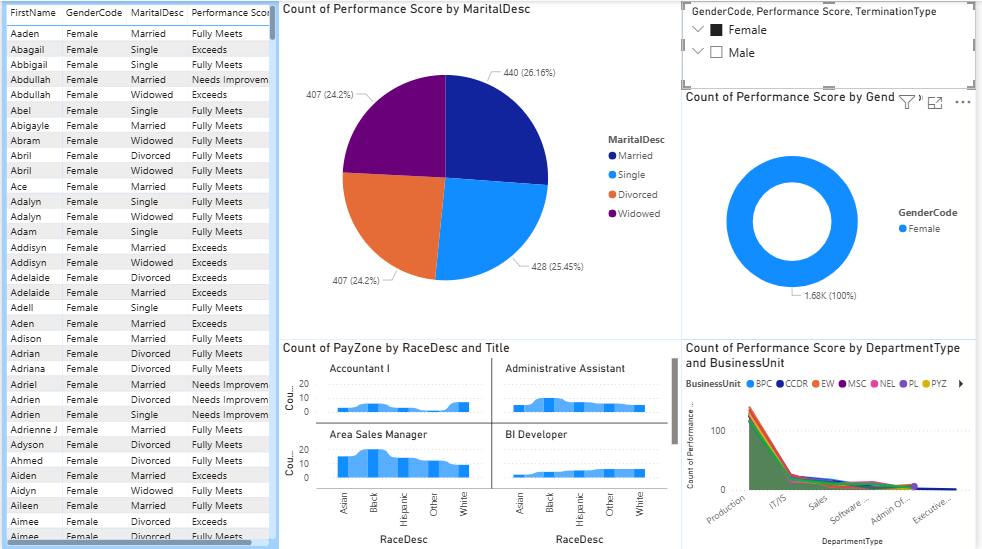

This screenshot's page, from the dashboard's own definition file:
{"tool":"powerbi","page":{"name":"Page 1","canvas":[1280,720],"ordinal":0},"visuals":[{"type":"tableEx","fields":{"Values":["employee_data.FirstName","employee_data.GenderCode","employee_data.MaritalDesc","employee_data.Performance Score"]},"box":[0,0,364.5,720.6],"z":0},{"type":"pieChart","fields":{"Category":["employee_data.MaritalDesc"],"Y":["CountNonNull(employee_data.Performance Score)"]},"box":[364.5,0,529.1,445.1],"z":1000},{"type":"ribbonChart","fields":{"Rows":["employee_data.Title"],"Y":["CountNonNull(employee_data.PayZone)"],"Category":["employee_data.RaceDesc"]},"box":[364.5,445.1,529.1,275.5],"z":2000},{"type":"slicer","fields":{"Values":["employee_data.GenderCode","employee_data.Performance Score","employee_data.TerminationType"]},"box":[893.6,0,386.4,115.9],"z":3000},{"type":"donutChart","fields":{"Category":["employee_data.GenderCode"],"Y":["CountNonNull(employee_data.Performance Score)"]},"box":[893.6,115.9,386.4,329.2],"z":4000},{"type":"areaChart","fields":{"Category":["employee_data.DepartmentType"],"Series":["employee_data.BusinessUnit"],"Y":["CountNonNull(employee_data.Performance Score)"]},"box":[894,445,386,275],"z":5000}]}

Visuals, with their boxes in screenshot pixels (x1, y1, x2, y2), scaled from the page's 1280x720 canvas onto the 982x549 screenshot:
tableEx - employee_data.FirstName x employee_data.GenderCode: box=[0, 0, 280, 548]
pieChart - employee_data.MaritalDesc x CountNonNull(employee_data.Performance Score): box=[280, 0, 686, 339]
ribbonChart - employee_data.Title x CountNonNull(employee_data.PayZone): box=[280, 339, 686, 548]
slicer - employee_data.GenderCode x employee_data.Performance Score: box=[686, 0, 981, 88]
donutChart - employee_data.GenderCode x CountNonNull(employee_data.Performance Score): box=[686, 88, 981, 339]
areaChart - employee_data.DepartmentType x employee_data.BusinessUnit: box=[686, 339, 981, 548]
